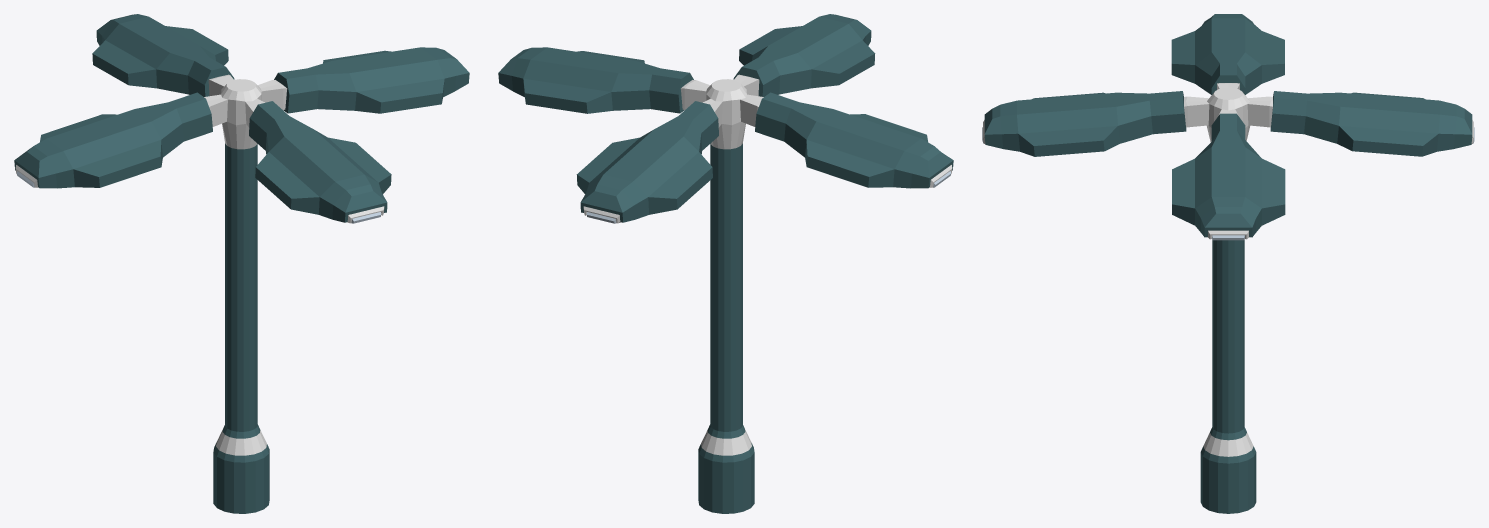
The model's file is Светильник улица.fbx.
The picture shows the model from 3 angles, left to right: view 1: azimuth 30°, elevation 25°; view 2: azimuth 150°, elevation 25°; view 3: azimuth 270°, elevation 25°; orthographic projection. The views are drawn at different scales.
Visible parts, largest first — view 1: Cylinder, Cube, Cube.003, Cube.001, Cube.002; view 2: Cylinder, Cube, Cube.002, Cube.001, Cube.003; view 3: Cylinder, Cube.002, Cube.003, Cube.001, Cube.
Part boxes in pixels (<box>): Cylinder: <box>204,74,287,513</box>; Cube: <box>14,92,212,188</box>; Cube.003: <box>249,101,391,223</box>; Cube.001: <box>274,47,469,113</box>; Cube.002: <box>92,14,234,96</box>; Cylinder: <box>680,74,763,513</box>; Cube: <box>755,92,953,188</box>; Cube.002: <box>576,101,718,223</box>; Cube.001: <box>498,47,693,113</box>; Cube.003: <box>733,14,875,96</box>; Cylinder: <box>1184,83,1272,513</box>; Cube.002: <box>1270,91,1474,156</box>; Cube.003: <box>982,91,1186,156</box>; Cube.001: <box>1172,113,1285,240</box>; Cube: <box>1171,14,1284,94</box>.
Size of the model in its own units: 1771 by 1622 by 1771.
